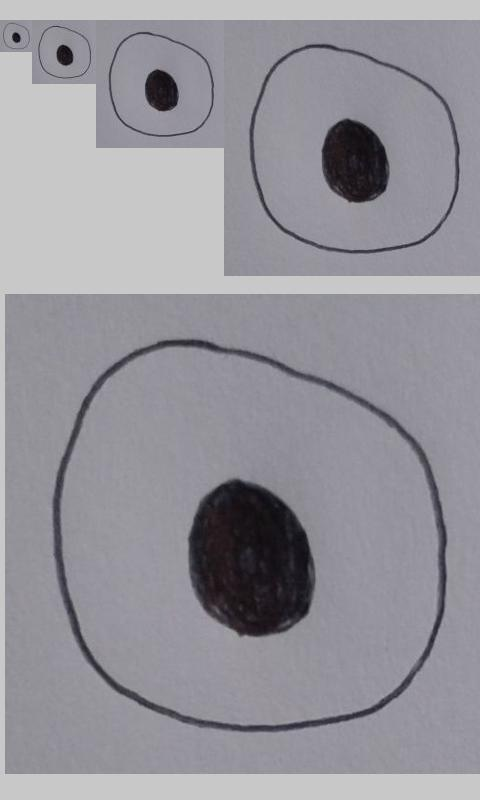radio_button: (51, 336, 449, 735), (248, 41, 461, 255), (108, 31, 215, 138), (37, 25, 92, 80), (2, 22, 31, 50)
